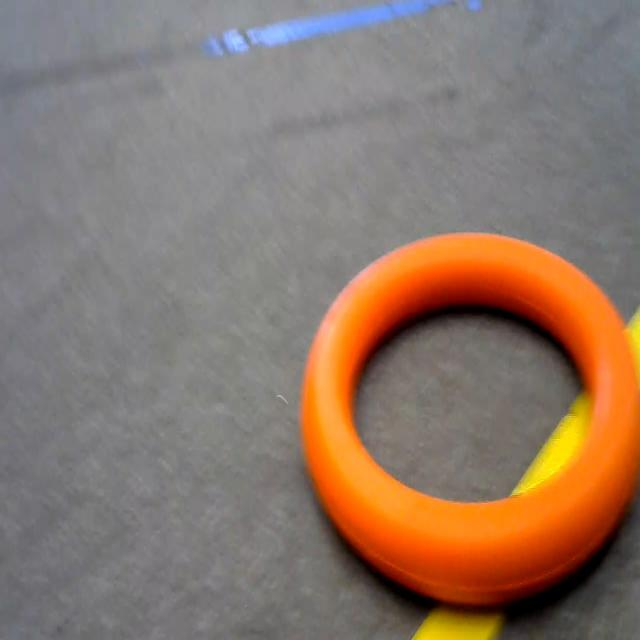note: (294, 221, 640, 592)
